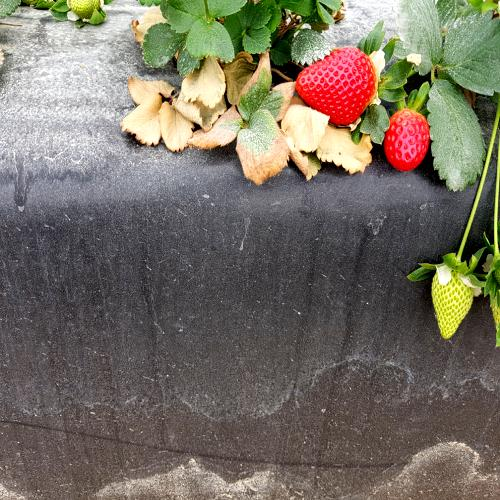ripe: (290, 40, 379, 132), (384, 91, 430, 182)
